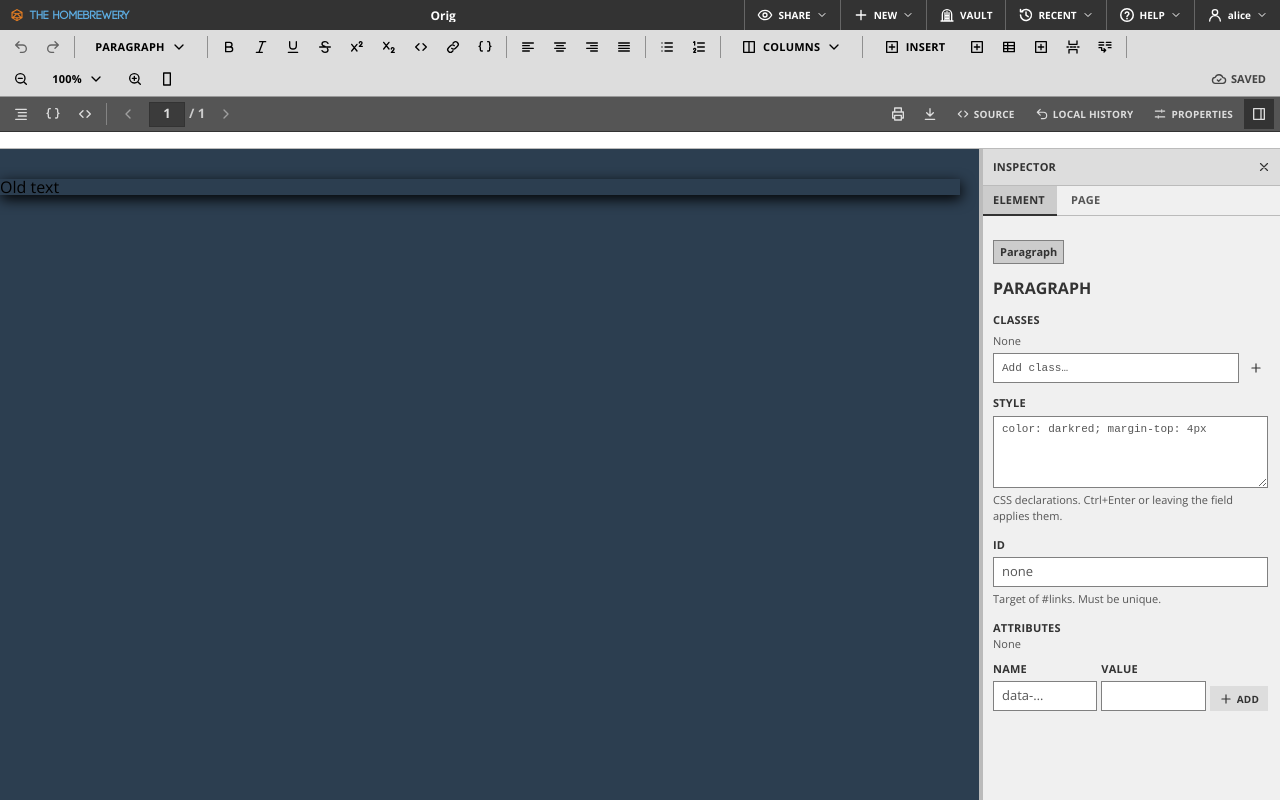
Test: Local history › restoring a snapshot does not send its author list again
Click the button with test id "open-local-history": click(1084, 114) [1026,102,1142,126]
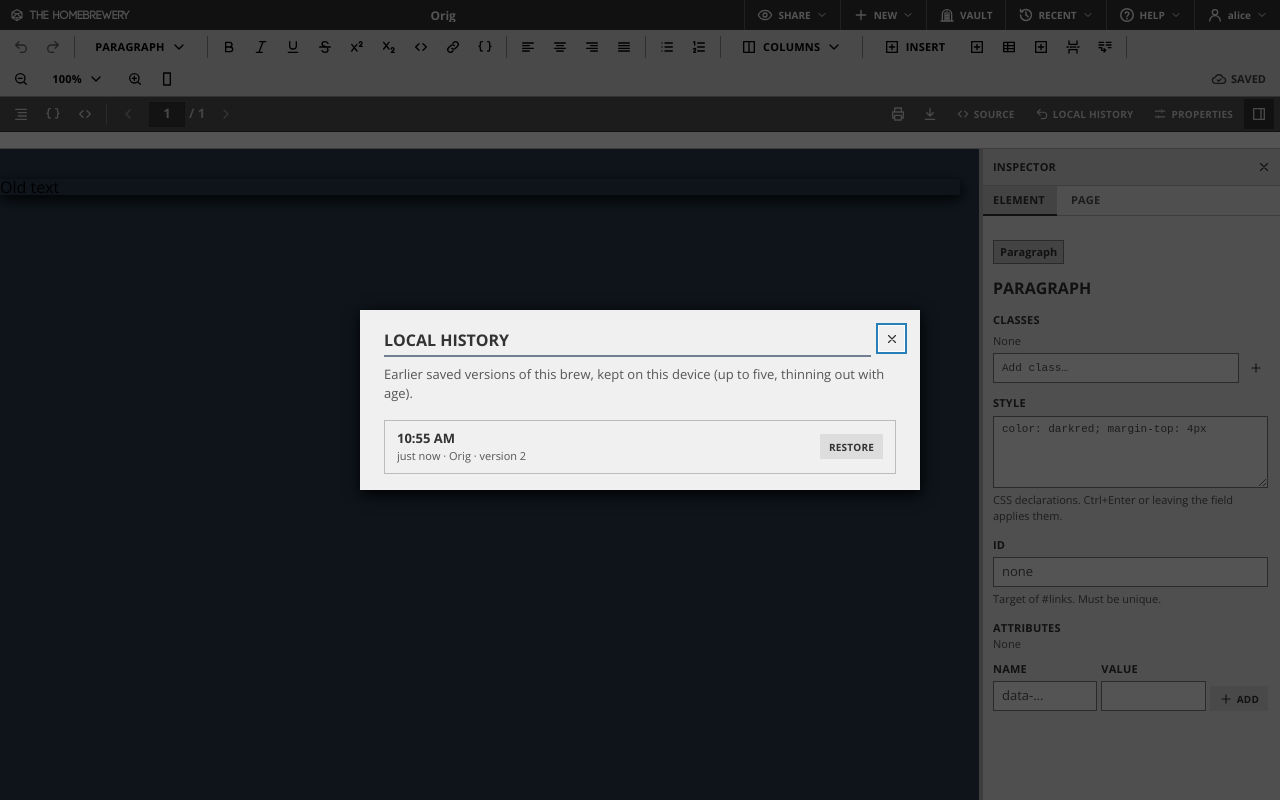
Click the button "Restore": click(851, 447) [820,434,883,459]
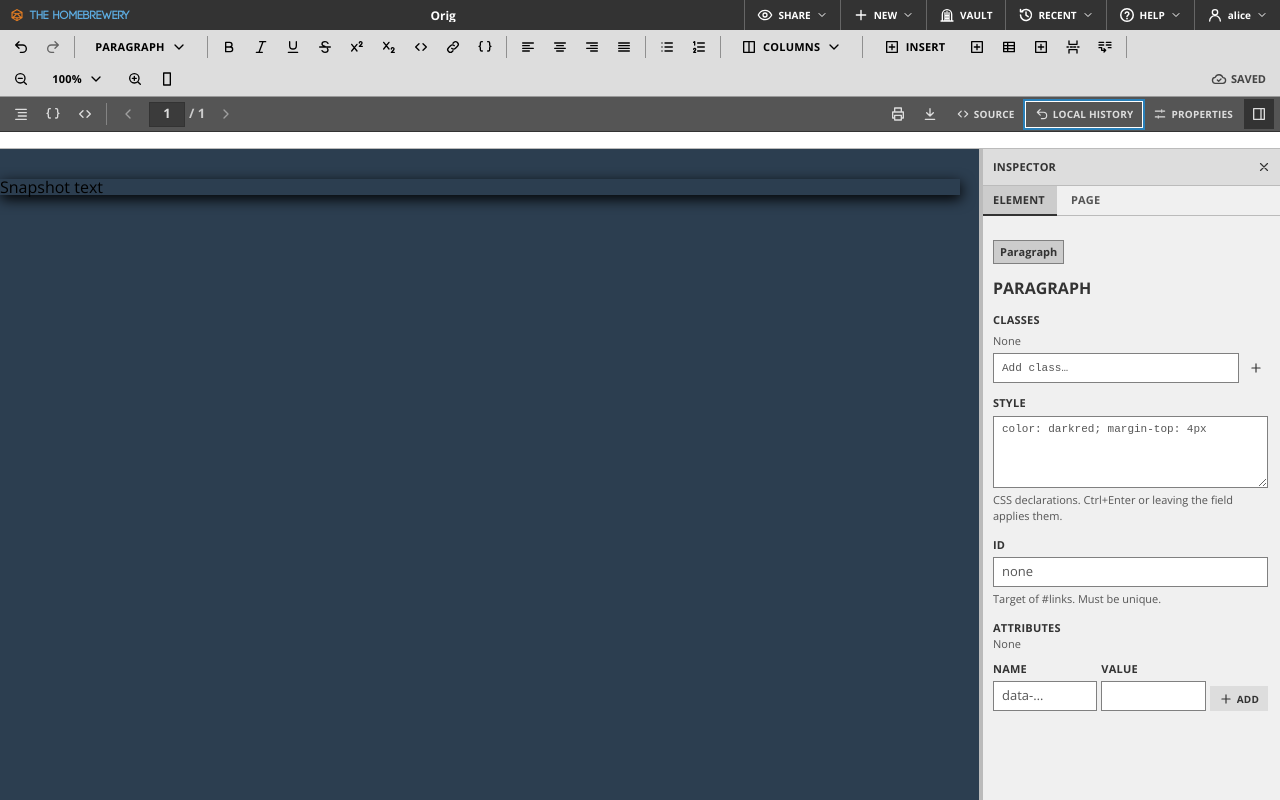
Expected: the text "Orig" is shown, [430,8,456,22]
Now the text box labelled "Snapshot text" is shown, box [0,176,103,198]
